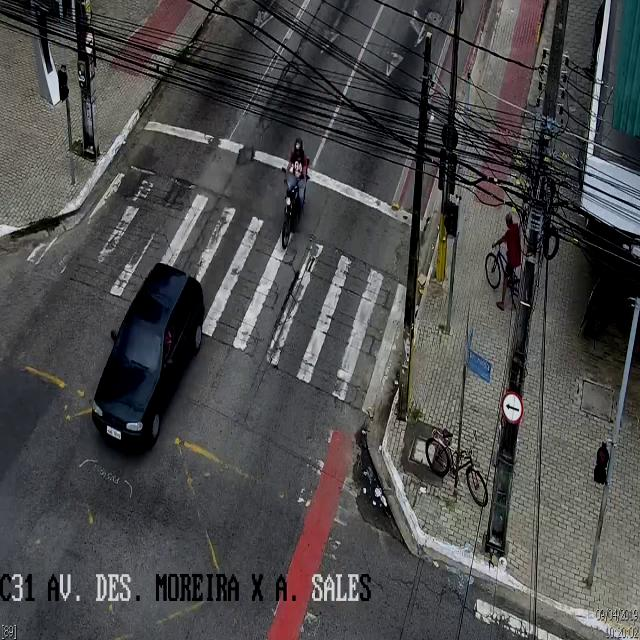Car: (91, 265, 203, 447)
Motorcycle: (280, 139, 310, 248)
